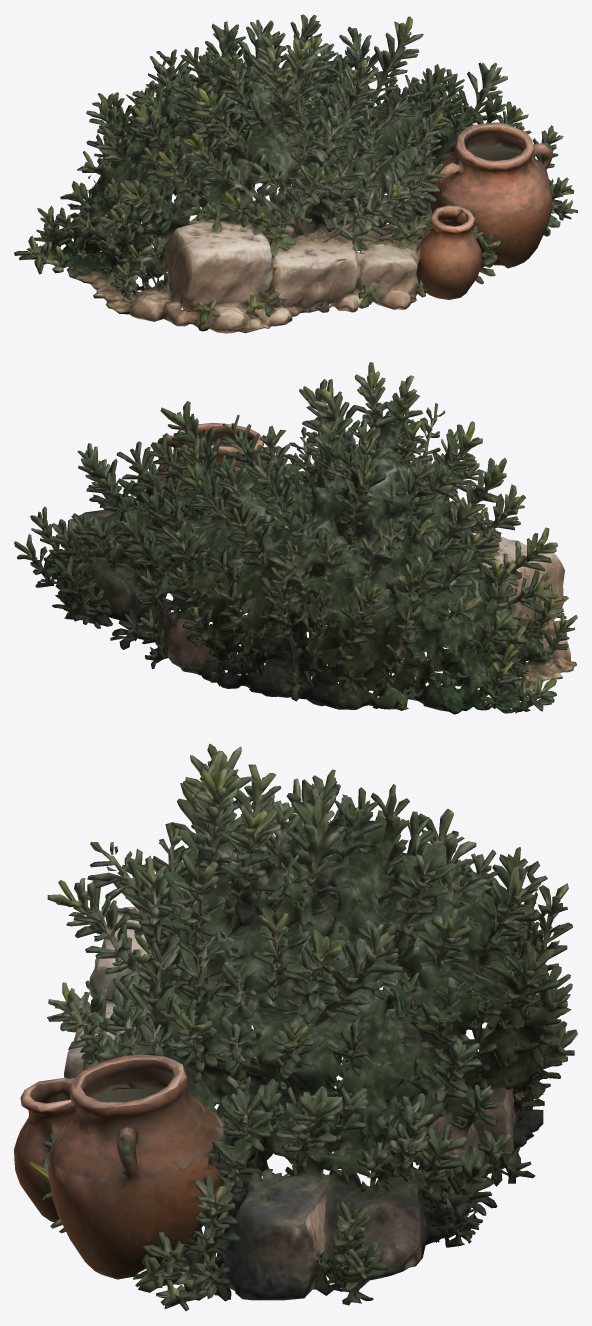
The model's file is olive-wall-cluster-b.glb.
The picture shows the model from 3 angles, top to bottom: view 1: azimuth 30°, elevation 25°; view 2: azimuth 150°, elevation 25°; view 3: azimuth 270°, elevation 25°; orthographic projection. The views are drawn at different scales.
Visible parts, largest first — view 1: geometry_0; view 2: geometry_0; view 3: geometry_0.
Boxes of the visible parts, x1,y1,x2,y2 form: geometry_0: (14, 14, 577, 333); geometry_0: (14, 362, 577, 714); geometry_0: (14, 744, 577, 1310).
Bounding box in the file's own units: 2.27 × 1.05 × 1.44.
1 material, 1 textured.
